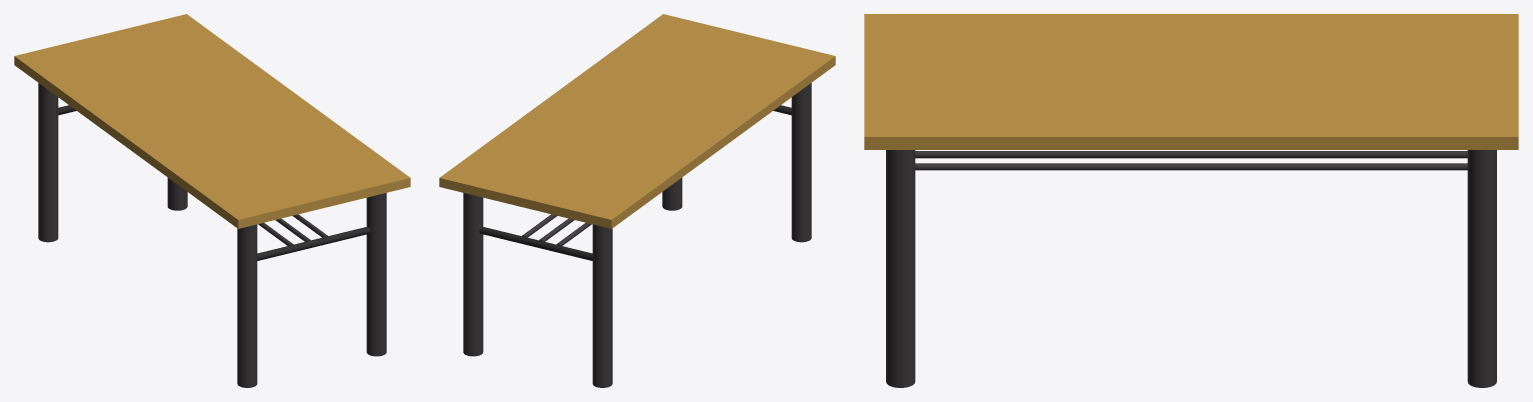
File: table.dae
3 renders of one model, left to right at view 1: azimuth 30°, elevation 25°; view 2: azimuth 150°, elevation 25°; view 3: azimuth 270°, elevation 25°, orthographic. The views are drawn at different scales.
Parts seen in each view (by area): view 1: Cube.001, Cylinder.001, Cylinder.003, Cylinder, Cylinder.008, Cylinder.002; view 2: Cube.001, Cylinder, Cylinder.002, Cylinder.001, Cylinder.007, Cylinder.003; view 3: Cube.001, Cylinder.003, Cylinder.002, Cylinder.005, Cylinder.004.
Boxes of the visible parts, x1,y1,x2,y2 form: Cube.001: [14, 14, 410, 228]; Cylinder.001: [237, 224, 257, 387]; Cylinder.003: [366, 193, 386, 356]; Cylinder: [38, 83, 58, 242]; Cylinder.008: [257, 226, 370, 260]; Cylinder.002: [167, 177, 187, 210]; Cube.001: [439, 14, 835, 228]; Cylinder: [592, 224, 612, 387]; Cylinder.002: [463, 193, 483, 356]; Cylinder.001: [791, 83, 811, 242]; Cylinder.007: [479, 226, 592, 260]; Cylinder.003: [662, 177, 682, 210]; Cube.001: [864, 14, 1518, 149]; Cylinder.003: [886, 150, 915, 387]; Cylinder.002: [1467, 150, 1496, 387]; Cylinder.005: [915, 163, 1467, 170]; Cylinder.004: [915, 151, 1467, 158].
Size of the model in its own units: 0.8 by 1.8 by 0.79.
